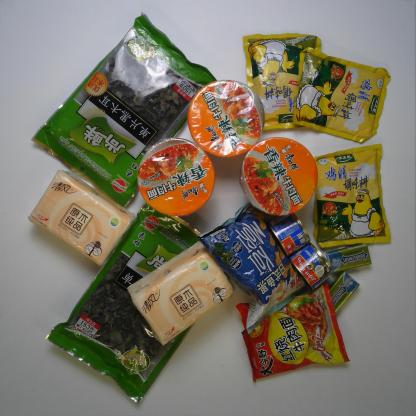Canned Food: (288, 240, 336, 293), (266, 208, 312, 258)
Dried Food: (28, 9, 222, 213), (42, 199, 219, 406)
Gum: (325, 268, 361, 318), (323, 242, 374, 276)
Instant Noodles: (235, 281, 352, 384), (134, 134, 218, 218), (184, 78, 268, 161), (237, 135, 320, 219)
Puffed Food: (196, 198, 314, 336)
Seasoner: (289, 43, 393, 146), (238, 26, 329, 136), (308, 142, 395, 257)
Tissue: (124, 238, 238, 348), (25, 168, 141, 270)
